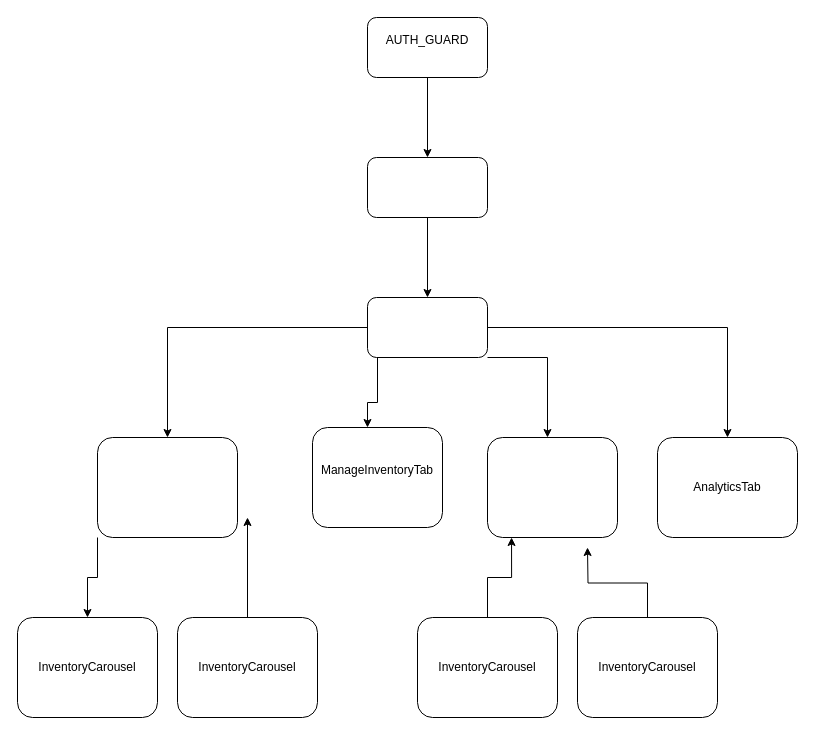
Some shapes in this 815 by 735 pixel diagram are drawn without their labels. Here are the shapes that lost their labels. From the top down, the centre of each, then its label:
At point (427, 187): "APP_CONTAINER".
At point (427, 327): "TabsView".
At point (167, 487): "MyBoothTab".
At point (552, 487): "EditInventoryItemTab".
